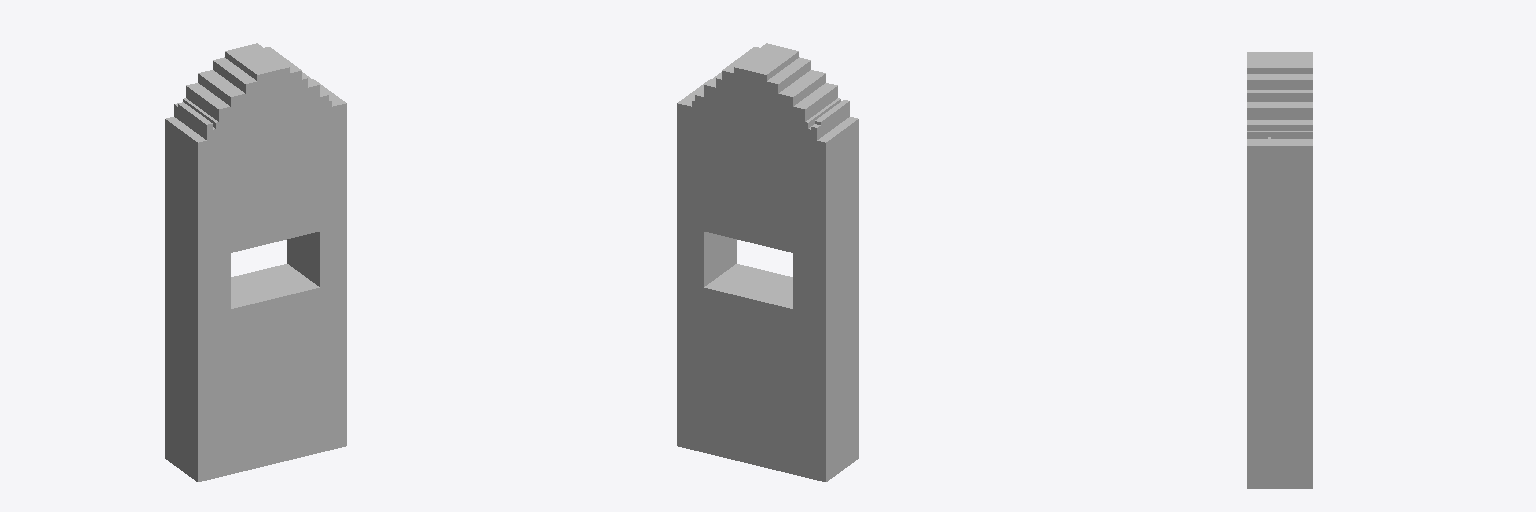
Rendered from 纪念碑.obj.
The picture shows the model from 3 angles: view 1: azimuth 30°, elevation 25°; view 2: azimuth 150°, elevation 25°; view 3: azimuth 270°, elevation 25°; orthographic projection.
Size of the model in its own units: 50 by 126 by 19.